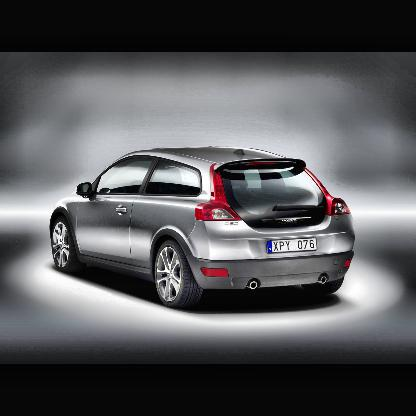Volvo C30 Hatchback 2012: (45, 135, 363, 318)
